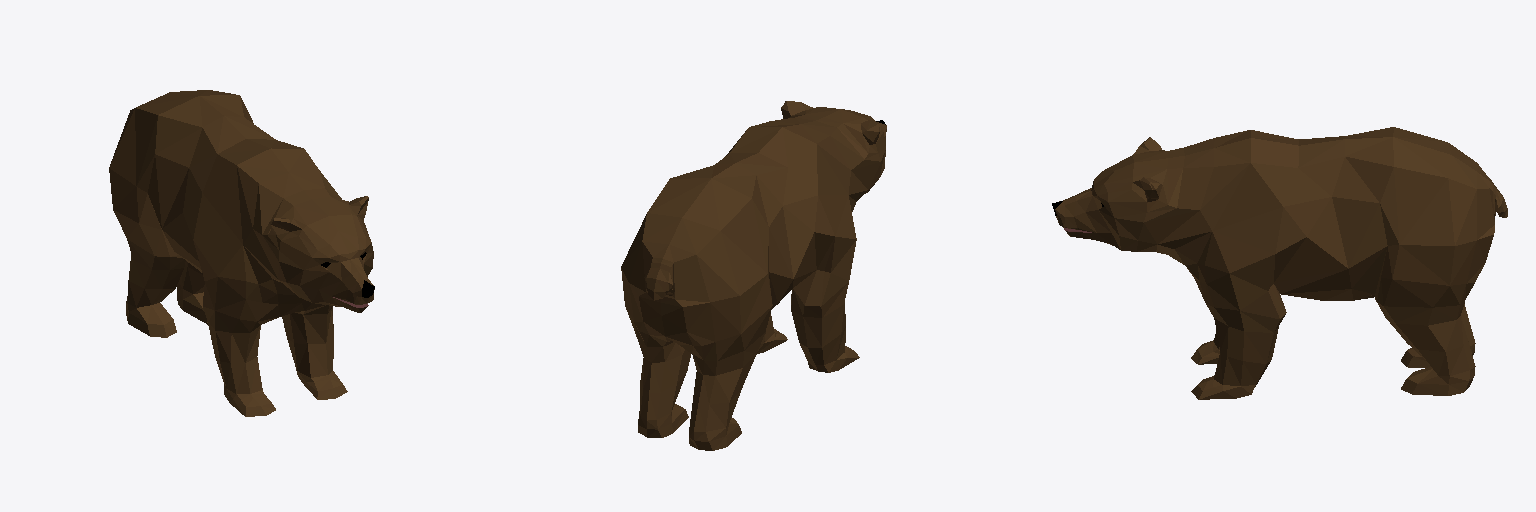
Rendered from bearBrown_colorMap.obj.
3 views of the same model, side by side, from view 1: azimuth 30°, elevation 25°; view 2: azimuth 150°, elevation 25°; view 3: azimuth 270°, elevation 25° (orthographic).
Size of the model in its own units: 81.4 by 142 by 247.